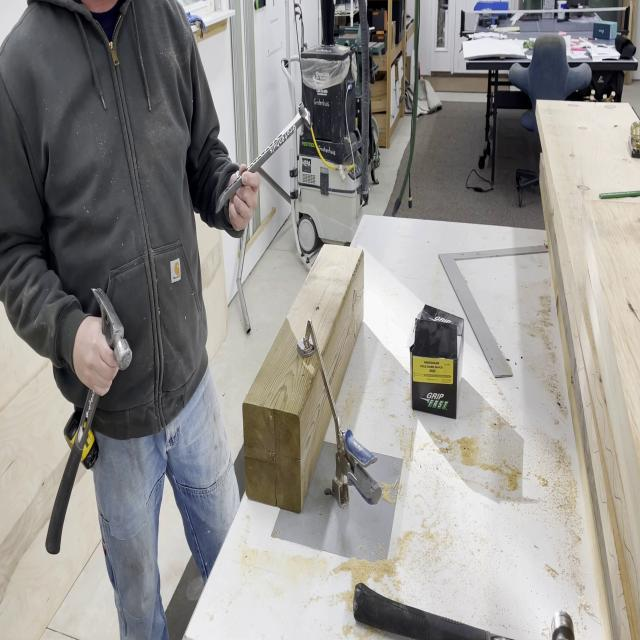hammer: (44, 285, 133, 558), (352, 580, 574, 640)
